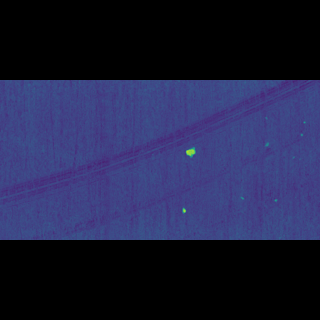Loch: (0, 117, 318, 185), (15, 144, 305, 200), (183, 152, 197, 160), (180, 183, 187, 188)
